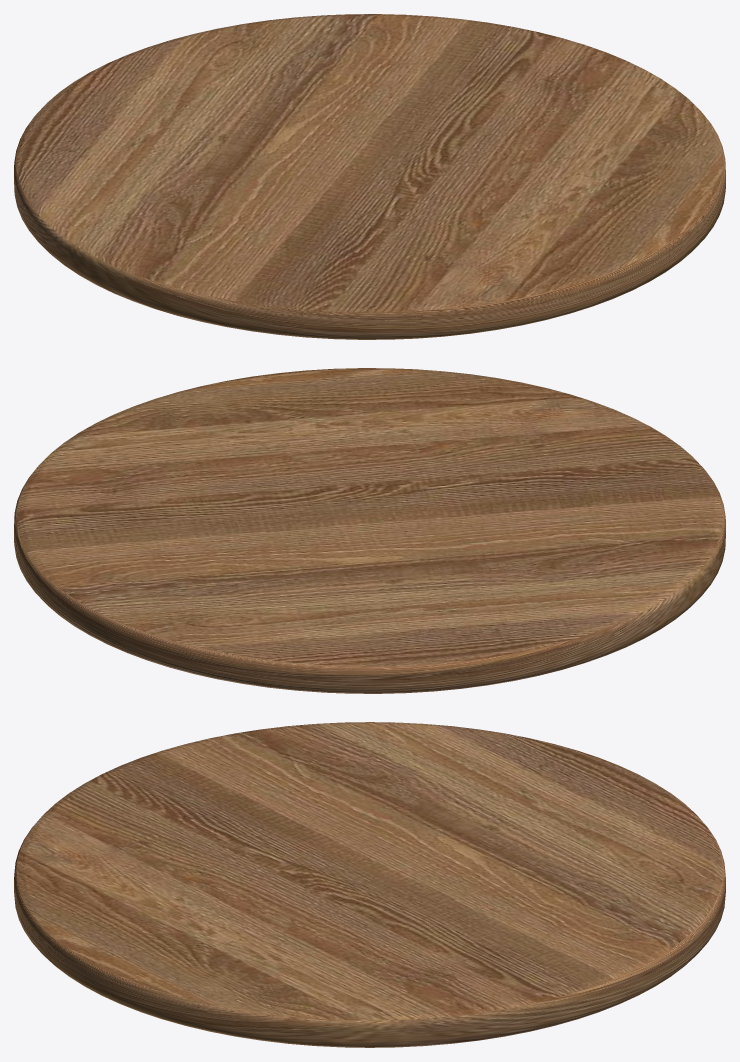
File: FaceTableWood.fbx
The picture shows the model from 3 angles, top to bottom: view 1: azimuth 30°, elevation 25°; view 2: azimuth 150°, elevation 25°; view 3: azimuth 270°, elevation 25°; orthographic projection.
Parts seen in each view (by area): view 1: TableWood; view 2: TableWood; view 3: TableWood.
Boxes of the visible parts, x1,y1,x2,y2 form: TableWood: (14, 14, 725, 339); TableWood: (14, 368, 725, 693); TableWood: (14, 722, 725, 1047).
Bounding box in the file's own units: 157 × 7.35 × 157.
